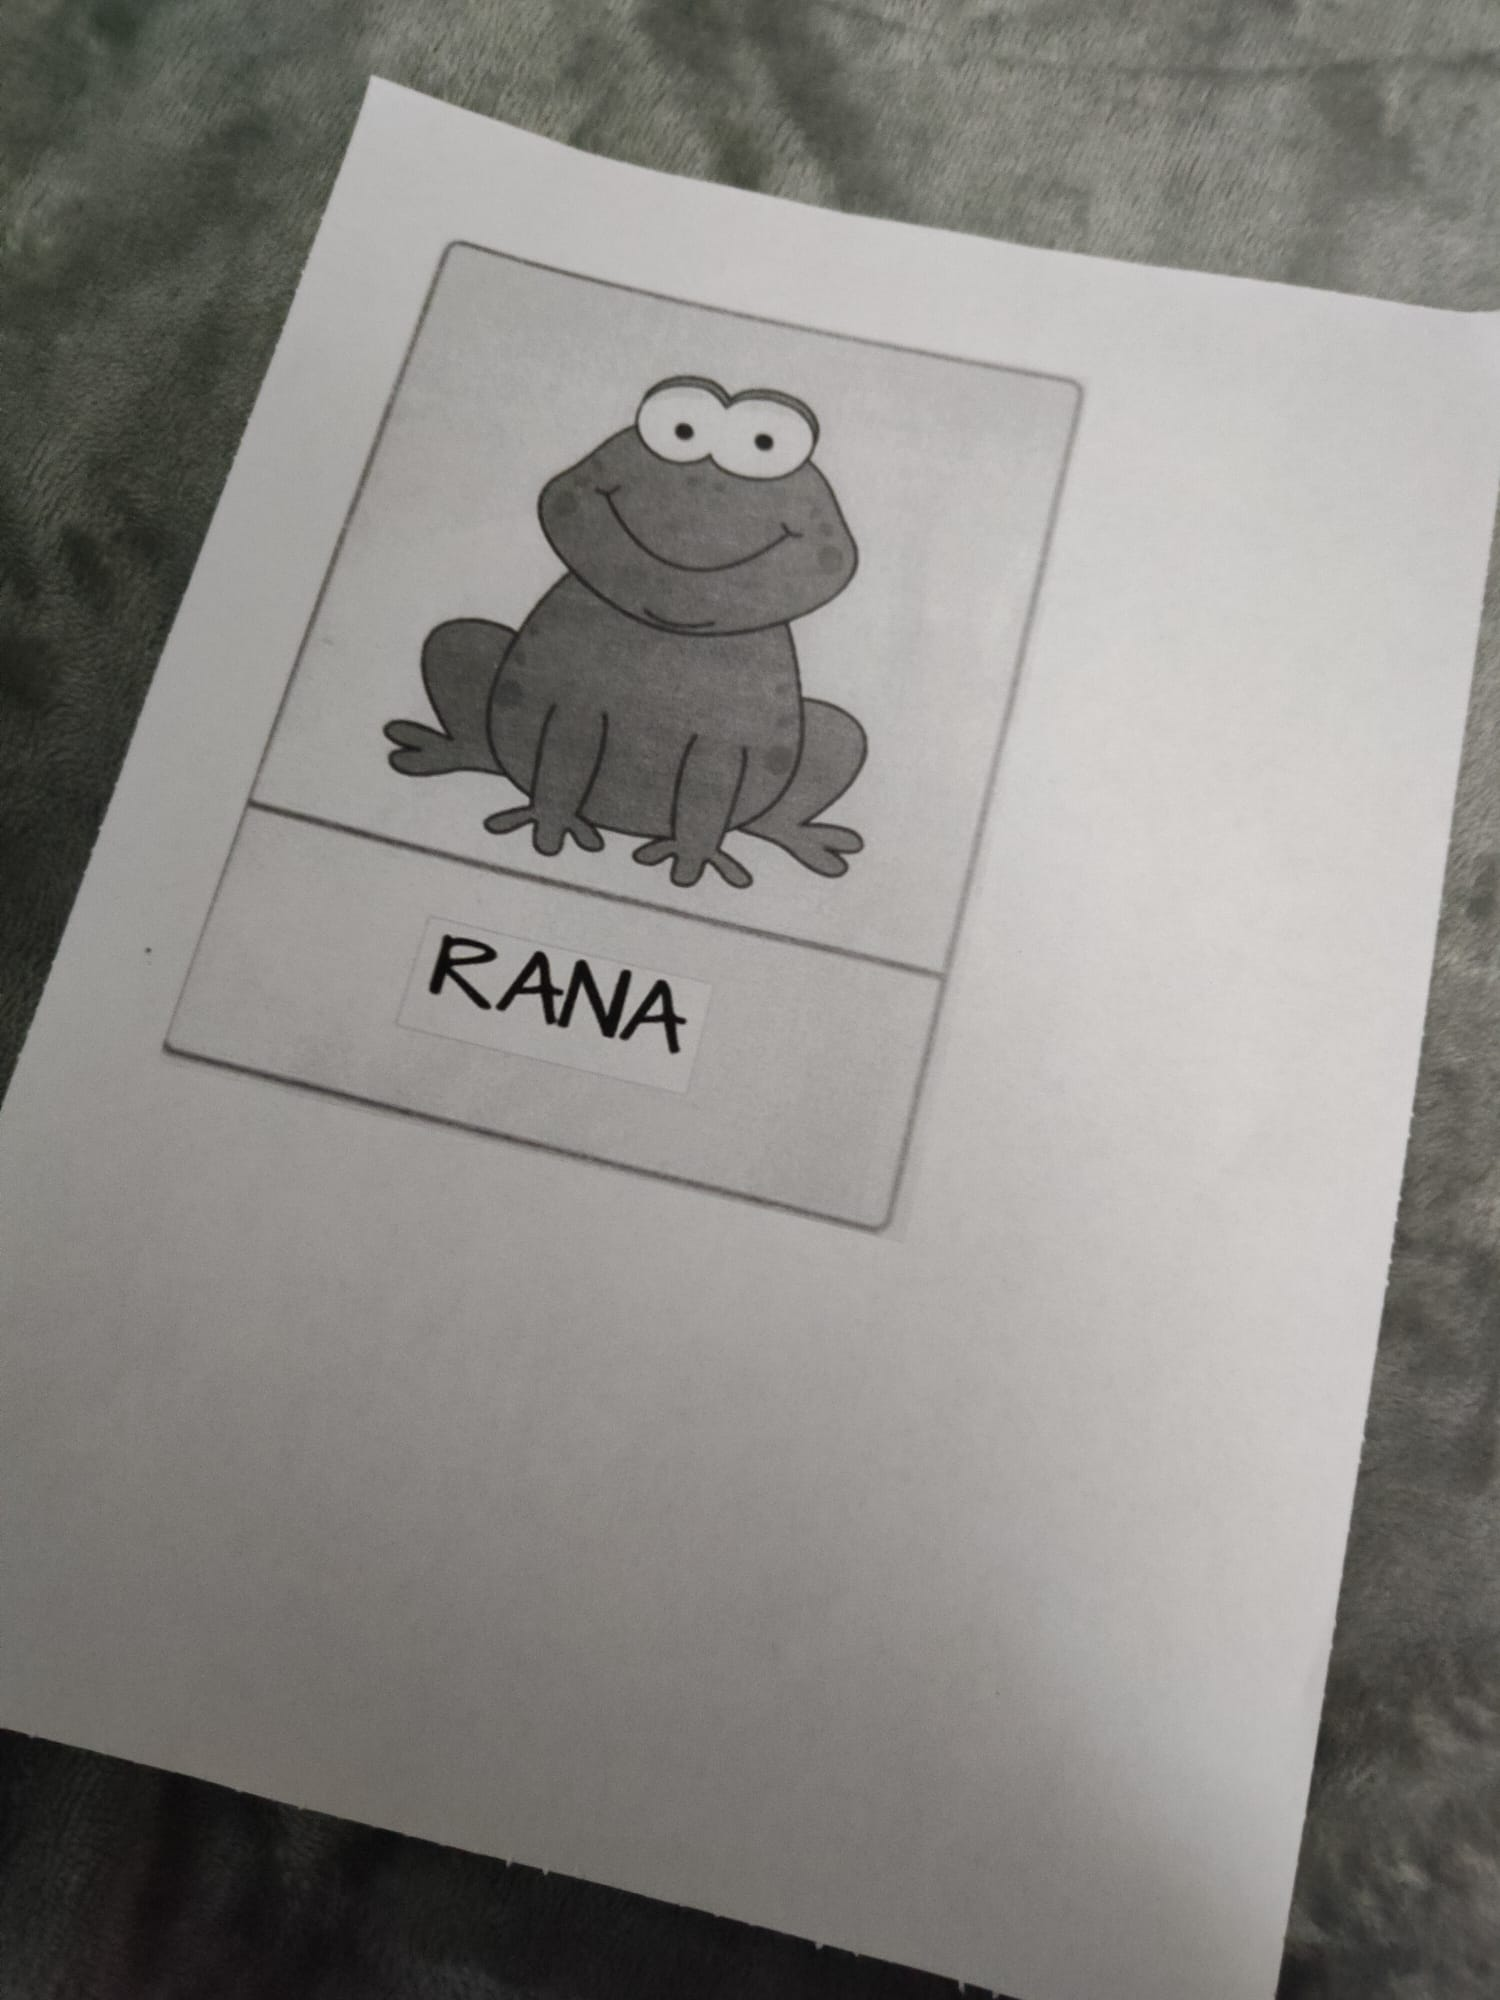rana: (339, 231, 950, 1176)
